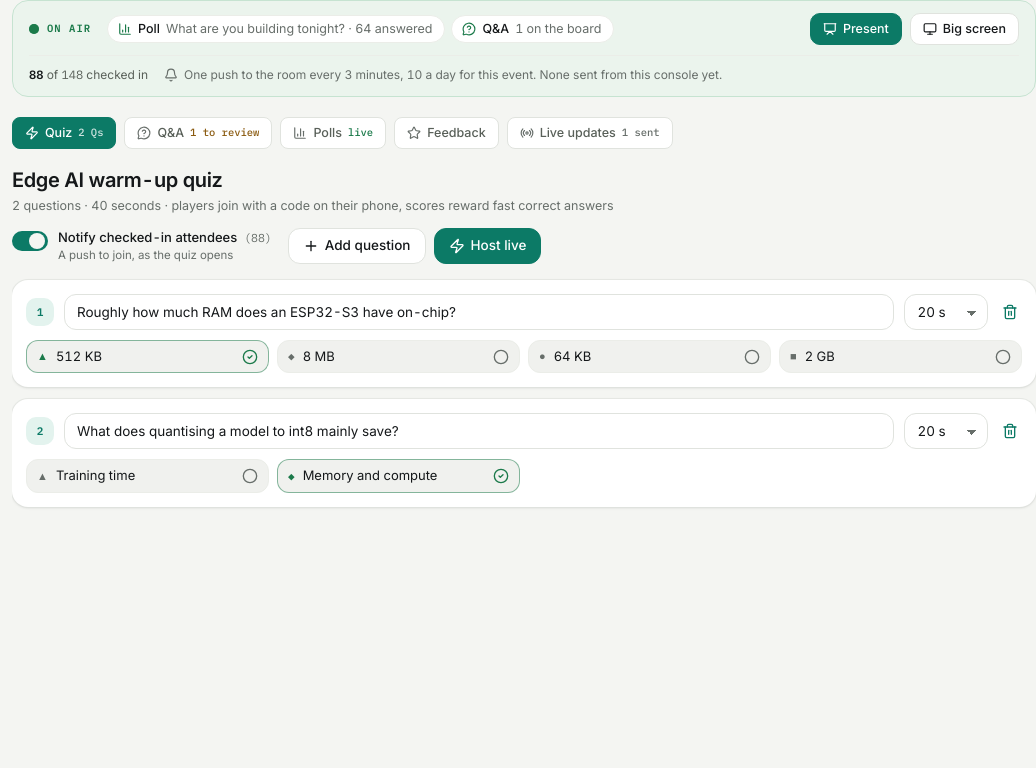
Test: notifying the room › puts the outcome on screen, in the toasts' live region
Click the button "Host live" at (487, 246), box [434, 228, 541, 264]
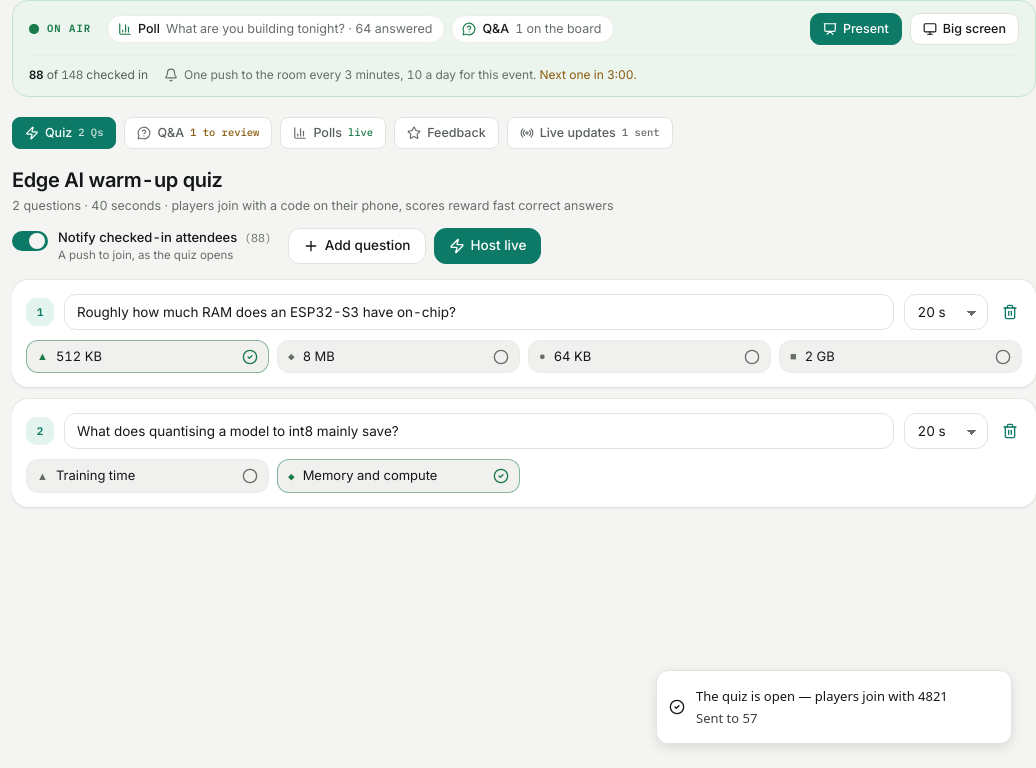
Now the text "The quiz is open — players join with 4821" is shown, box [696, 687, 948, 707]
